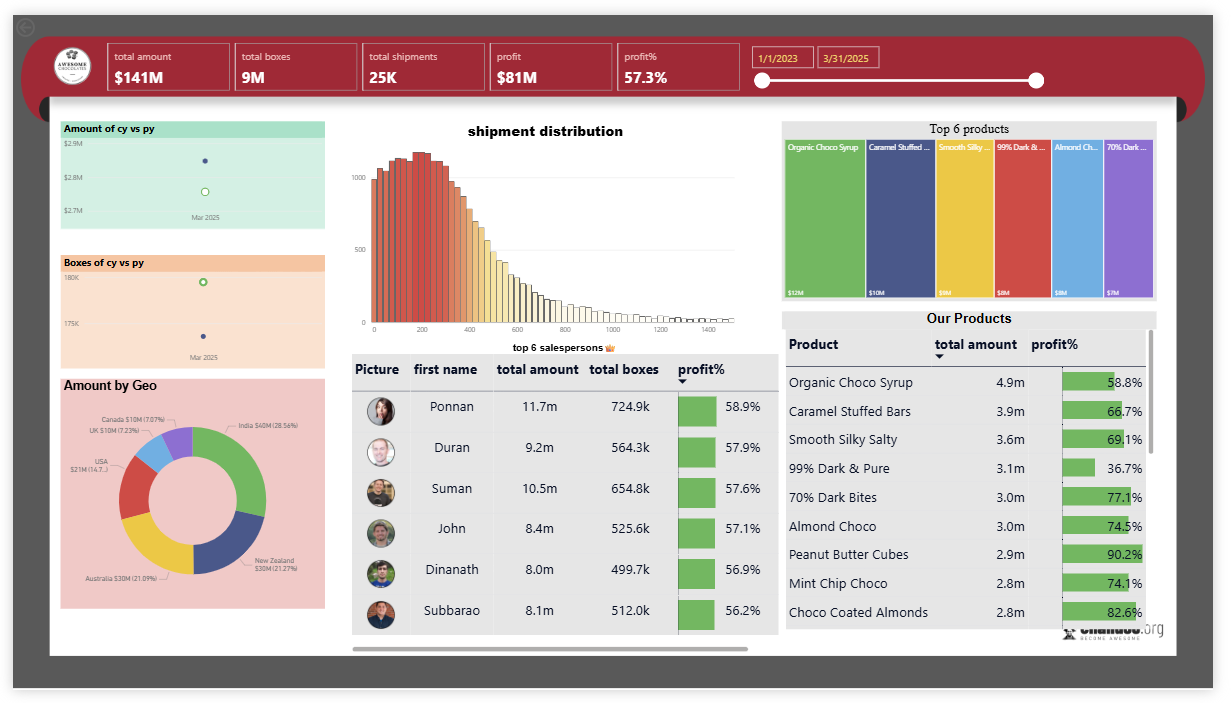

Layout of this report page (visuals, bound fields, positions):
{"tool":"powerbi","page":{"name":"Dashboard","canvas":[1920,1080],"ordinal":0},"visuals":[{"type":"lineChart","title":"Amount of cy vs py","fields":{"Y":["shipments.total amount","shipments.total amount last year"],"Category":["calendar.Start of Month"]},"box":[75,170,423.3,171.7],"z":0},{"type":"lineChart","title":"Boxes of cy vs py","fields":{"Category":["calendar.Start of Month"],"Y":["shipments.total boxes","shipments.total boxes last"]},"box":[75,383.3,423.3,181.7],"z":1000},{"type":"donutChart","title":"Amount by Geo","fields":{"Category":["locations.Geo"],"Y":["shipments.total amount"]},"box":[75,581.7,423.3,368.3],"z":2000},{"type":"clusteredColumnChart","title":"shipment distribution","fields":{"Category":["shipments.Boxes (bins)"],"Y":["shipments.shipment count"]},"box":[536,170,632,350],"z":3000},{"type":"tableEx","title":"top 6 salespersons👑","fields":{"Values":["people.Picture","people.first name","shipments.total amount","shipments.total boxes","shipments.profit%"]},"box":[536,520,694,504],"z":4000},{"type":"actionButton","box":[0,0,100,40],"z":5000},{"type":"treemap","title":"Top 6 products","fields":{"Values":["shipments.total amount"],"Group":["products.Product"]},"box":[1230,170,600,288],"z":6000},{"type":"tableEx","title":"Our Products","fields":{"Values":["products.Product","shipments.total amount","shipments.profit%"]},"box":[1230,474,600,514],"z":7000},{"type":"cardVisual","fields":{"Data":["shipments.total amount","shipments.total boxes","shipments.total shipments","shipments.profit","shipments.profit%"]},"box":[145,40,1023.3,86.7],"z":8000},{"type":"slicer","fields":{"Values":["calendar.cal_date"]},"box":[1170,40,488,86],"z":9000}]}

Visuals, with their boxes in screenshot pixels (x1, y1, x2, y2), scaled from the page's 1920x1080 canvas onto the 1232x703 screenshot:
"Amount of cy vs py" lineChart: (48, 111, 320, 222)
"Boxes of cy vs py" lineChart: (48, 249, 320, 368)
"Amount by Geo" donutChart: (48, 379, 320, 618)
"shipment distribution" clusteredColumnChart: (344, 111, 749, 338)
"top 6 salespersons👑" tableEx: (344, 338, 789, 667)
actionButton: (0, 0, 64, 26)
"Top 6 products" treemap: (789, 111, 1174, 298)
"Our Products" tableEx: (789, 309, 1174, 643)
cardVisual - shipments.total amount x shipments.total boxes: (93, 26, 750, 82)
slicer - calendar.cal_date: (751, 26, 1064, 82)
